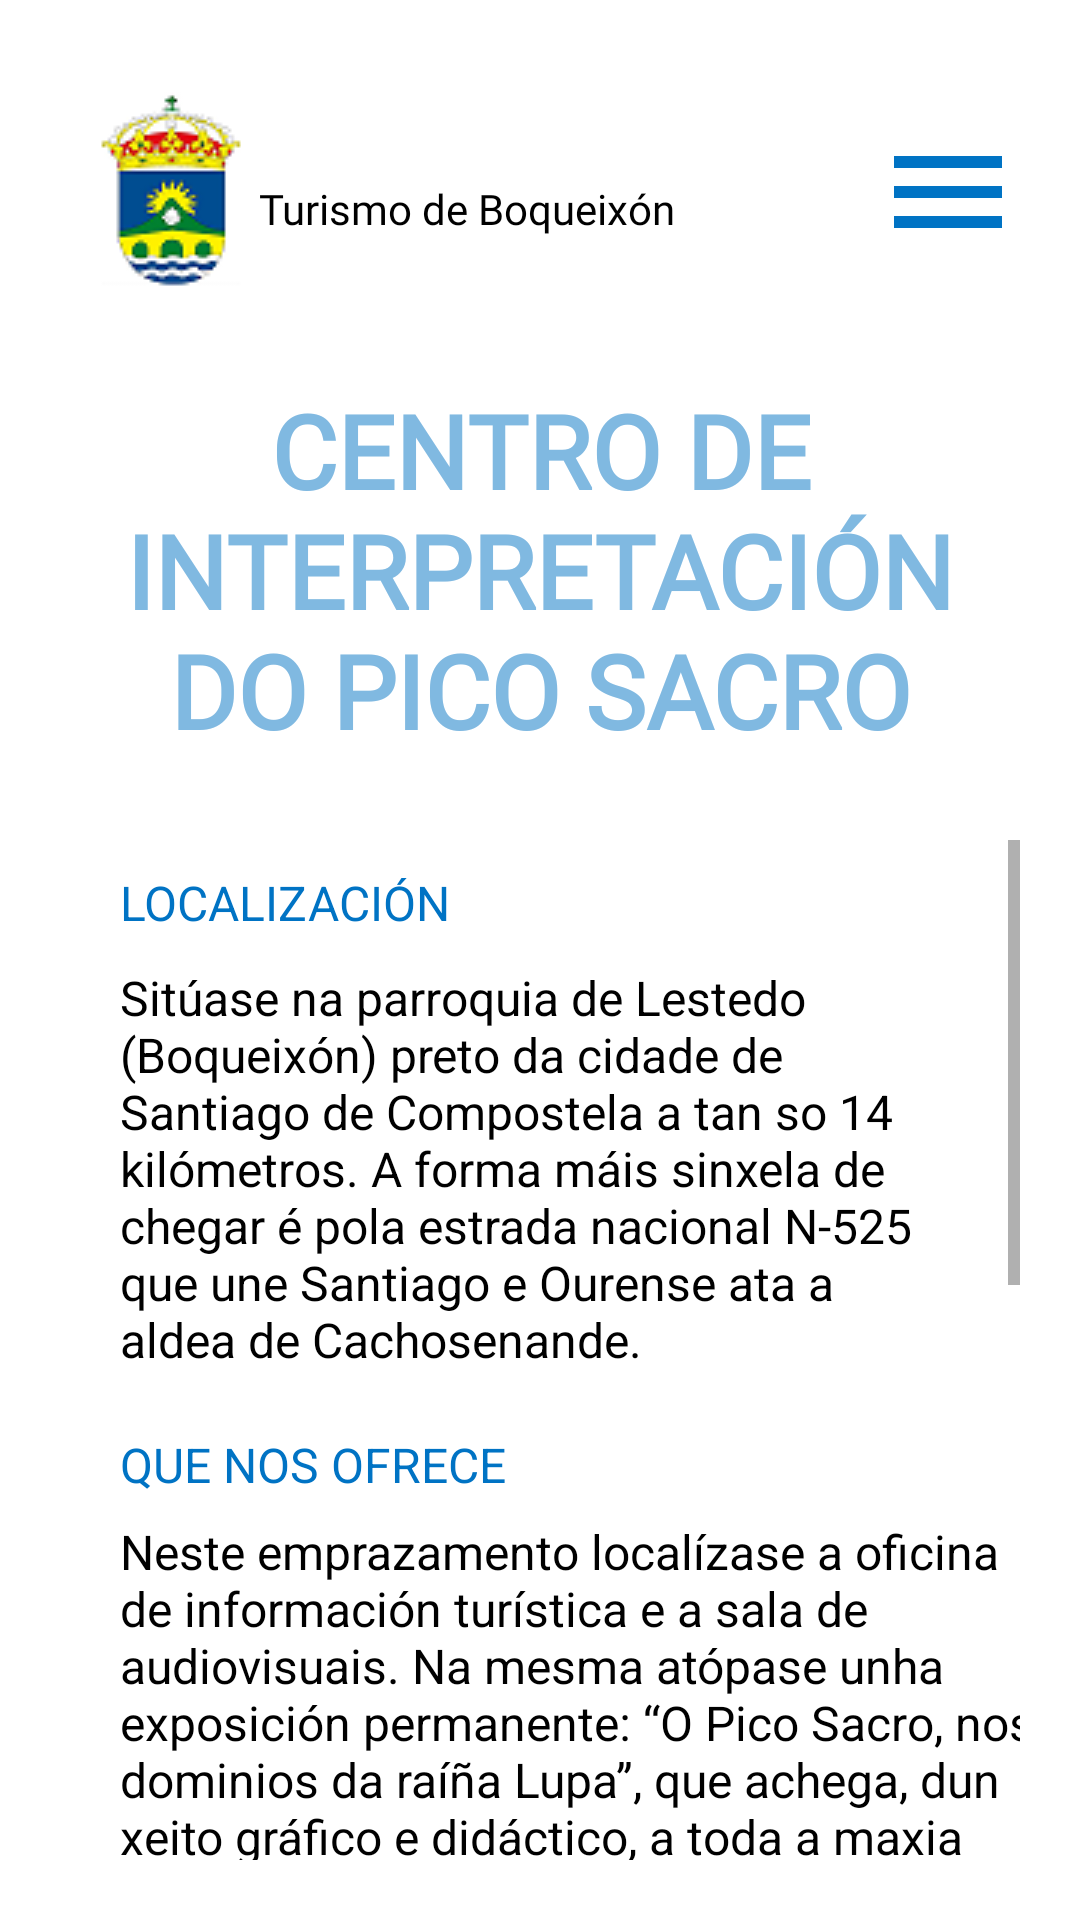

Icons on this 1080w x 1920h Android screen, each with its box as (x1, y1, x2, y2):
hamburguesa: (894, 156, 1002, 228)
